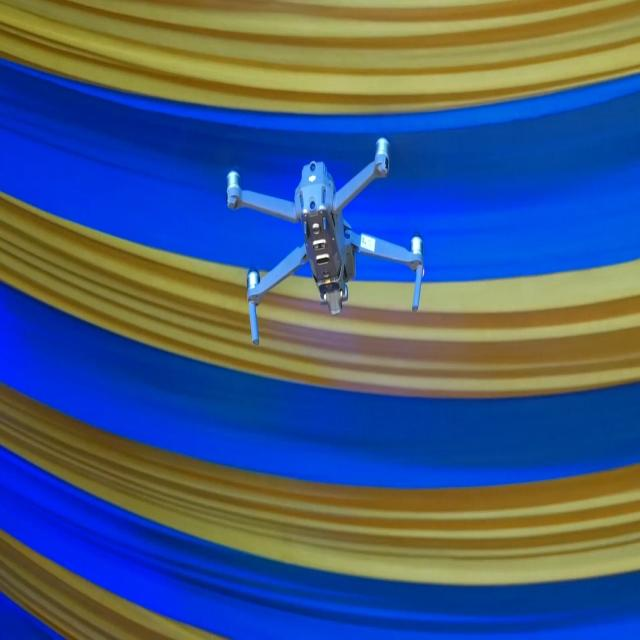Drone: (226, 138, 422, 345)
